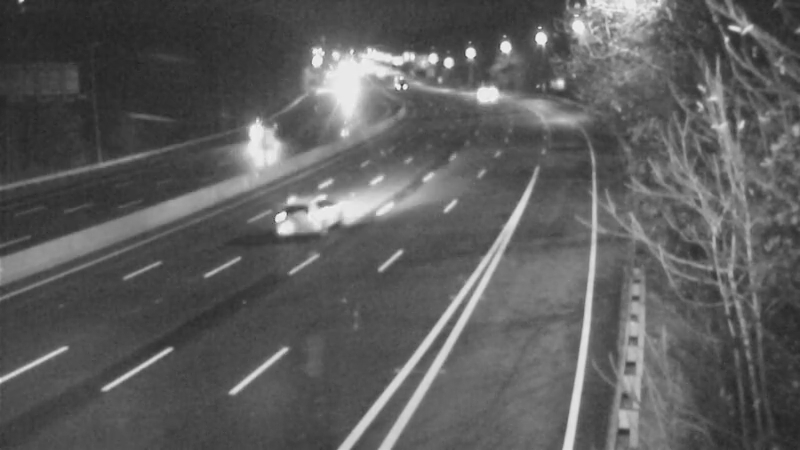vehicle: (262, 183, 342, 263), (371, 56, 421, 106), (459, 68, 509, 118), (224, 99, 274, 149)
